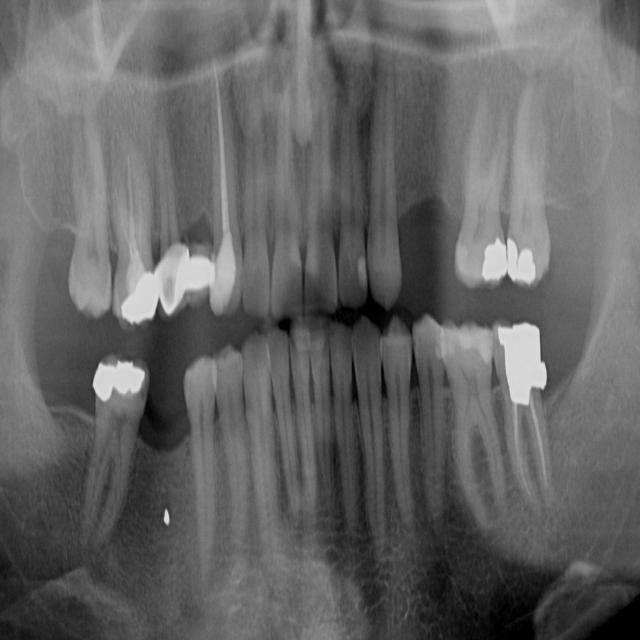dolgu: (74, 352, 148, 409), (116, 269, 162, 328), (504, 234, 538, 290), (480, 238, 509, 288)
kanal-tedavisi: (195, 68, 244, 246), (494, 393, 568, 507)
kaplama: (492, 318, 552, 404), (159, 236, 190, 312)
kopru: (180, 240, 222, 310)
